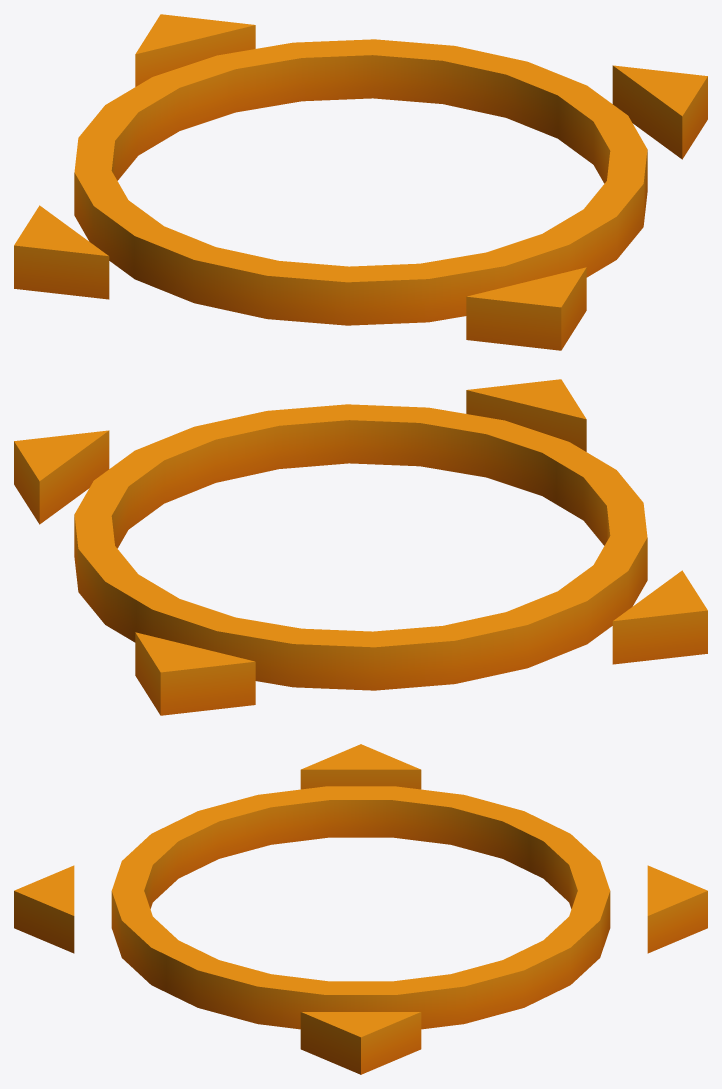
File: Selection_Pointer_05.fbx
The picture shows the model from 3 angles, top to bottom: view 1: azimuth 30°, elevation 25°; view 2: azimuth 150°, elevation 25°; view 3: azimuth 270°, elevation 25°; orthographic projection. The views are drawn at different scales.
Parts seen in each view (by area): view 1: Selection_Pointer_05; view 2: Selection_Pointer_05; view 3: Selection_Pointer_05.
Boxes of the visible parts, x1=… form: Selection_Pointer_05: x1=14, y1=14, x2=707, y2=350; Selection_Pointer_05: x1=14, y1=379, x2=707, y2=715; Selection_Pointer_05: x1=14, y1=744, x2=707, y2=1074.
Size of the model in its own units: 131 by 7.84 by 131.
